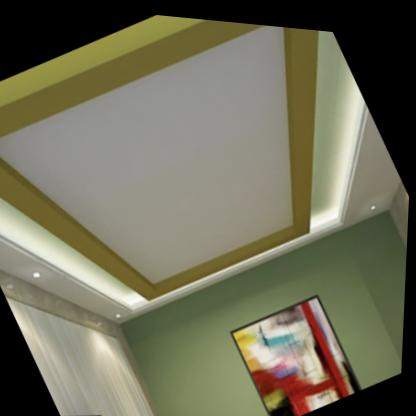Gypsum Board: (0, 0, 416, 389)
